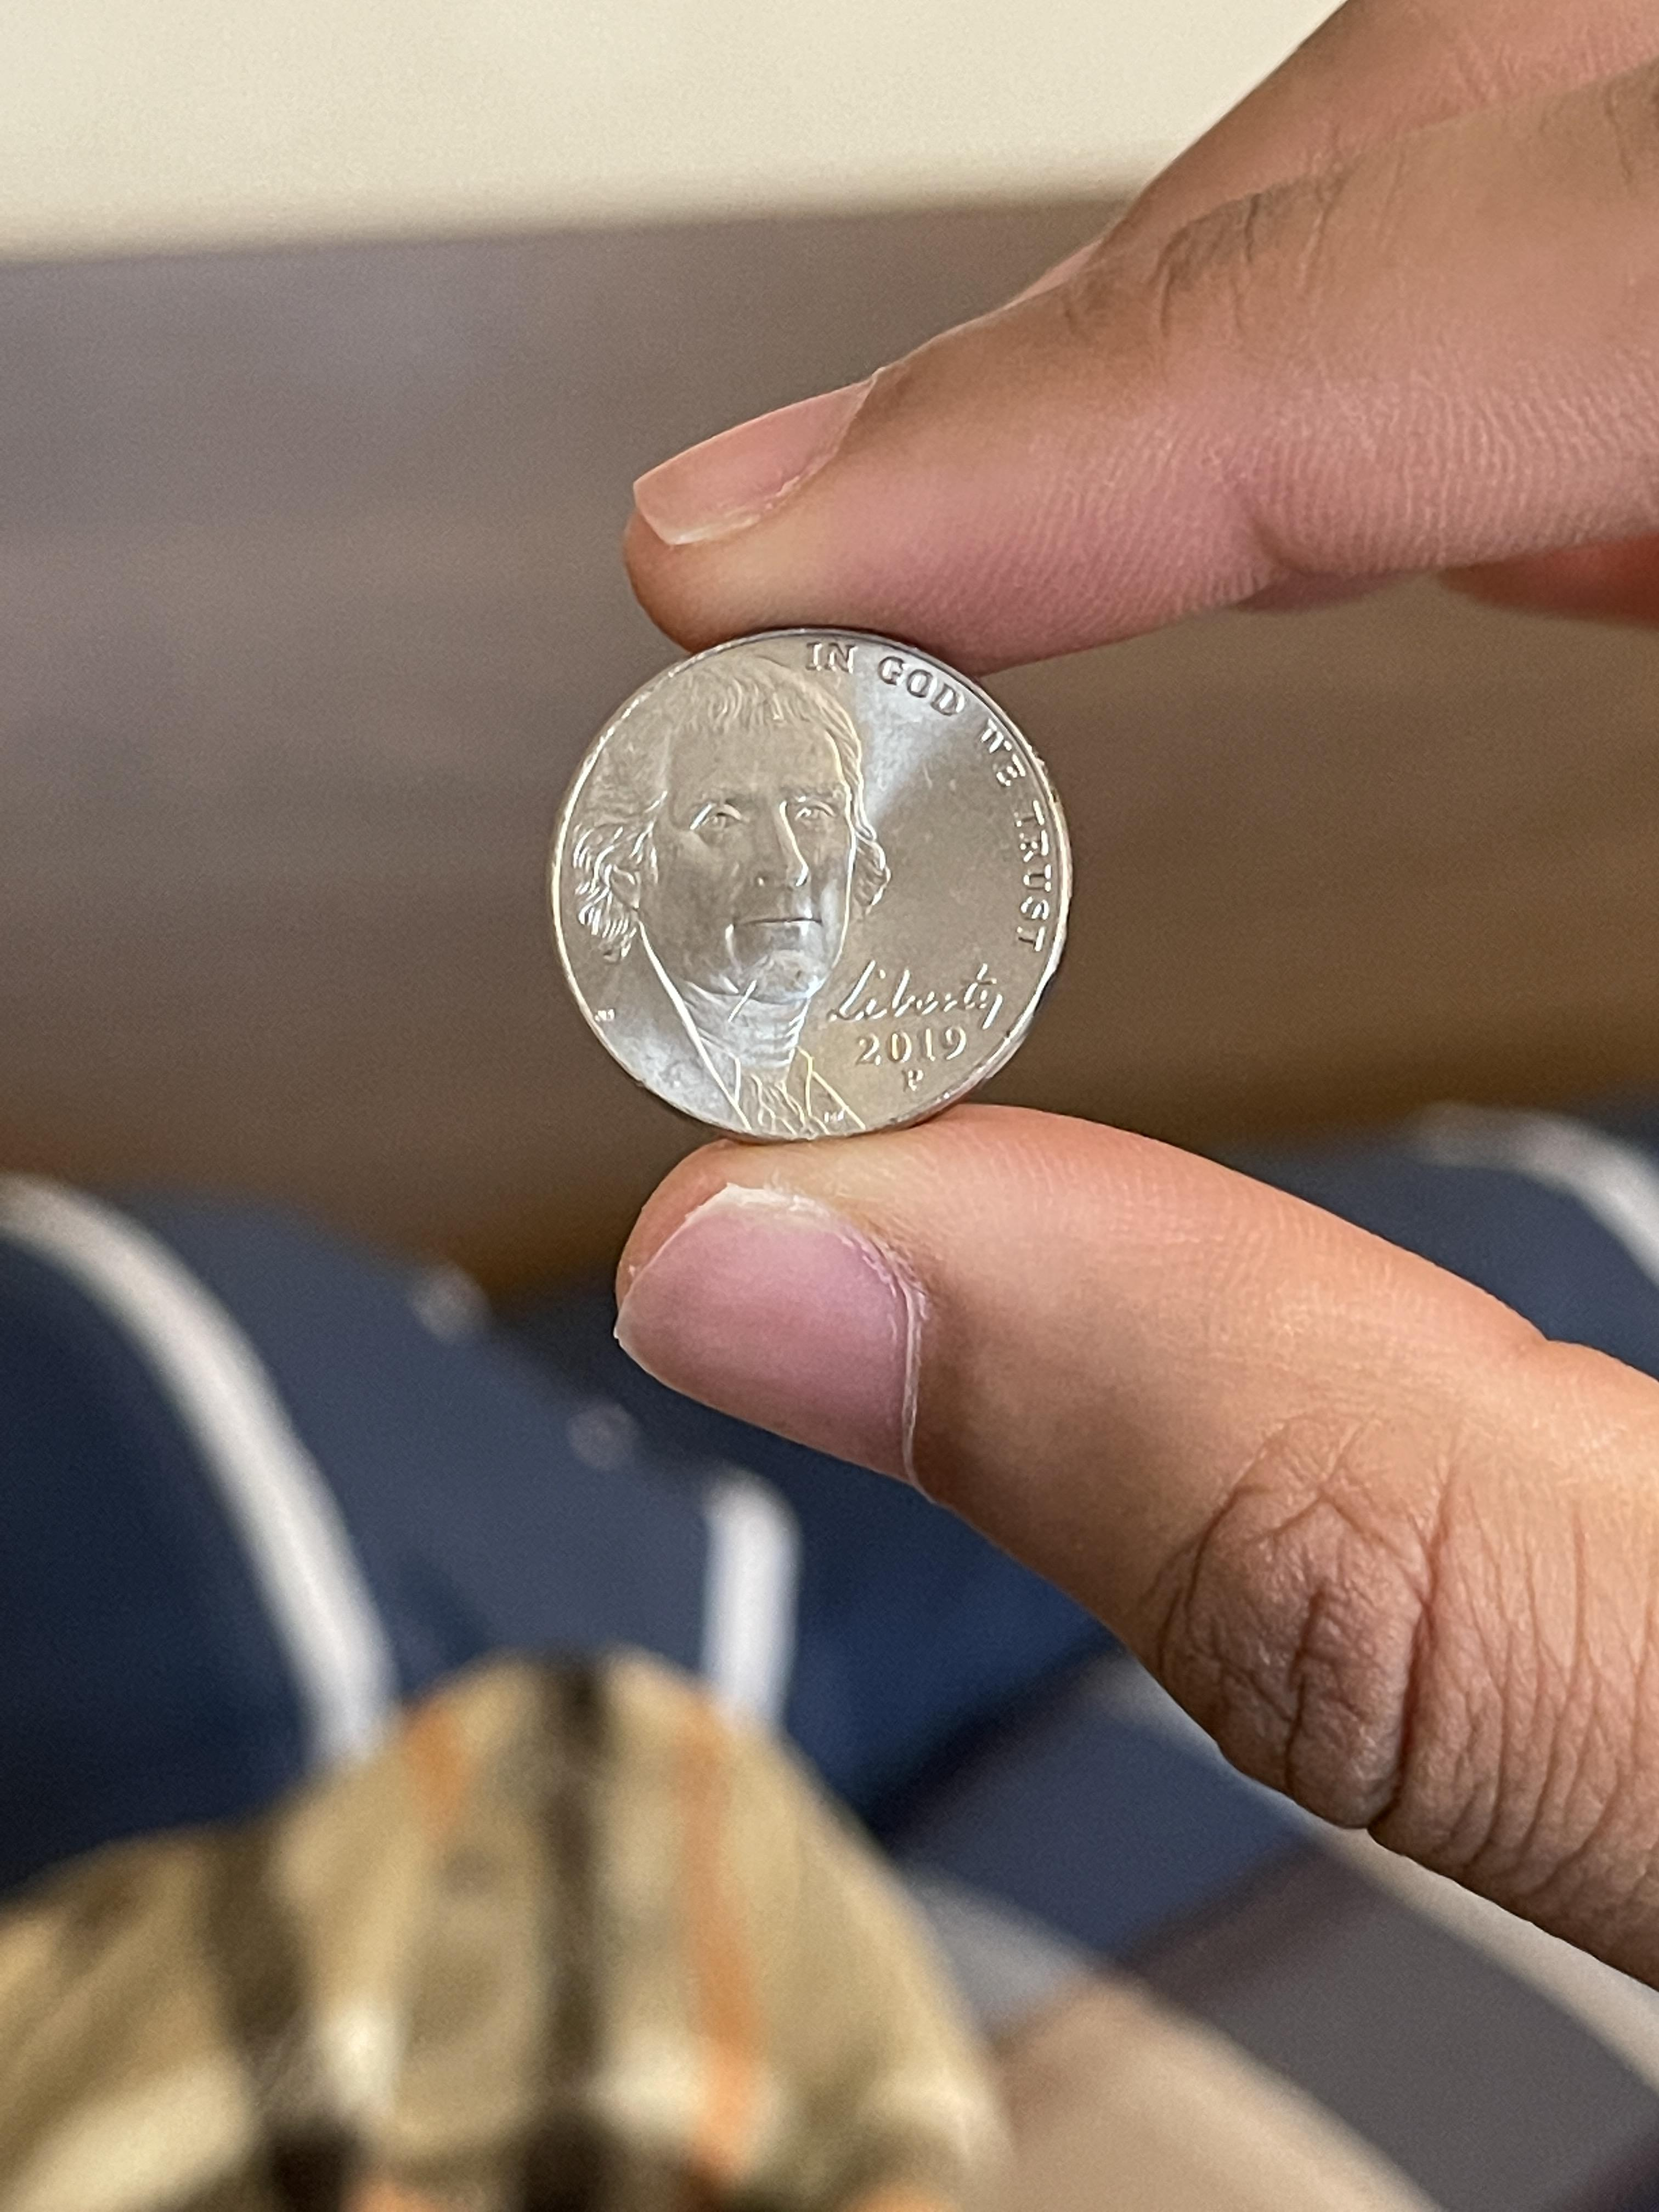Nickel: (538, 624, 1080, 1150)
